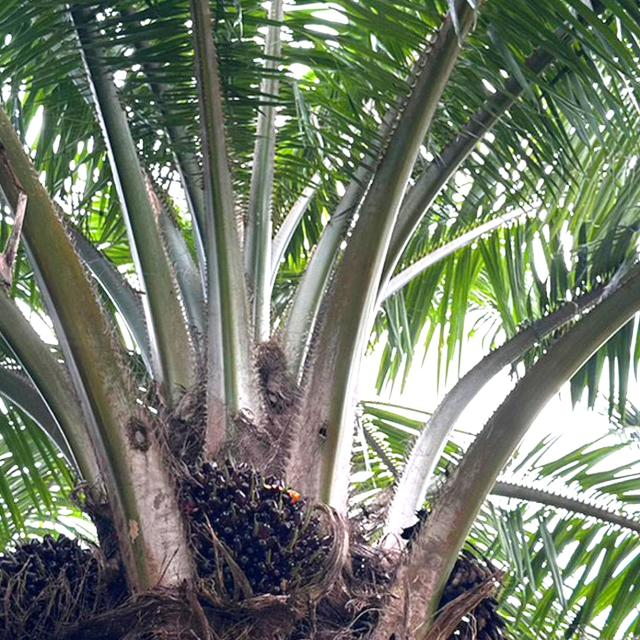almost: (172, 452, 341, 602), (1, 527, 123, 631)
